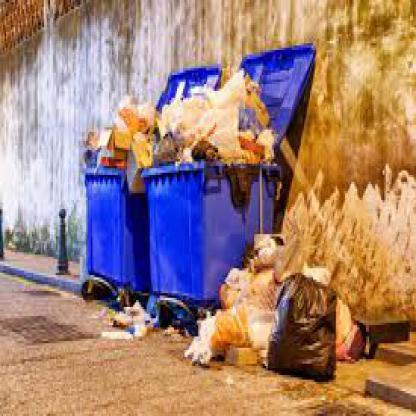Garbage: (248, 232, 339, 378), (162, 82, 272, 159), (220, 264, 280, 384), (274, 280, 339, 382), (85, 95, 165, 166), (328, 300, 362, 370), (212, 77, 254, 118), (112, 309, 158, 346), (206, 130, 250, 164), (120, 113, 154, 150), (228, 166, 256, 209), (92, 128, 123, 166), (96, 120, 121, 166), (182, 84, 209, 125), (195, 320, 219, 364), (101, 328, 136, 352), (126, 161, 146, 200), (119, 309, 144, 334), (258, 127, 274, 162), (176, 134, 186, 157)
